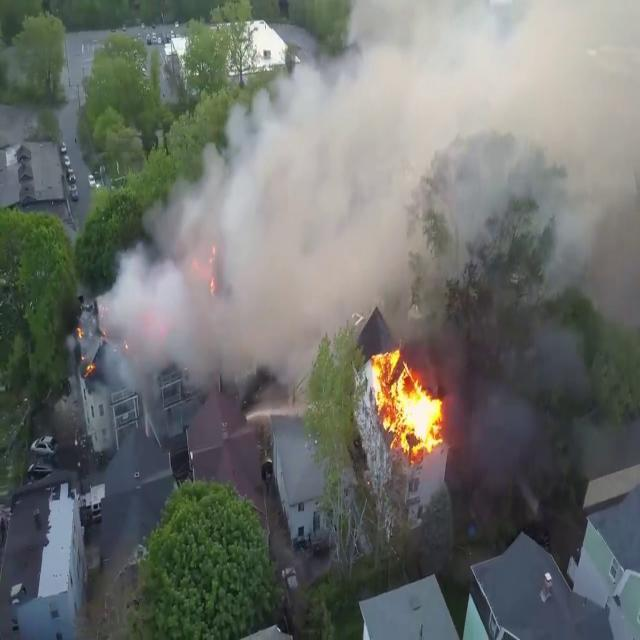Fire: (365, 336, 450, 458)
Smoke: (111, 1, 640, 406)
